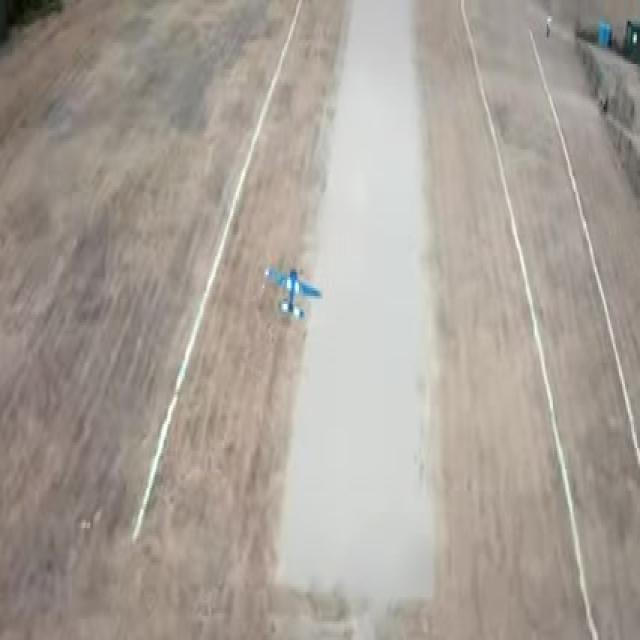iha: (264, 262, 324, 320)
